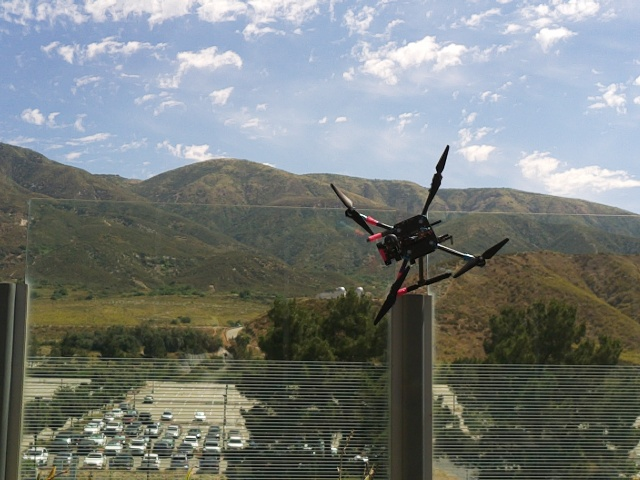quadcopter: (325, 134, 535, 331)
